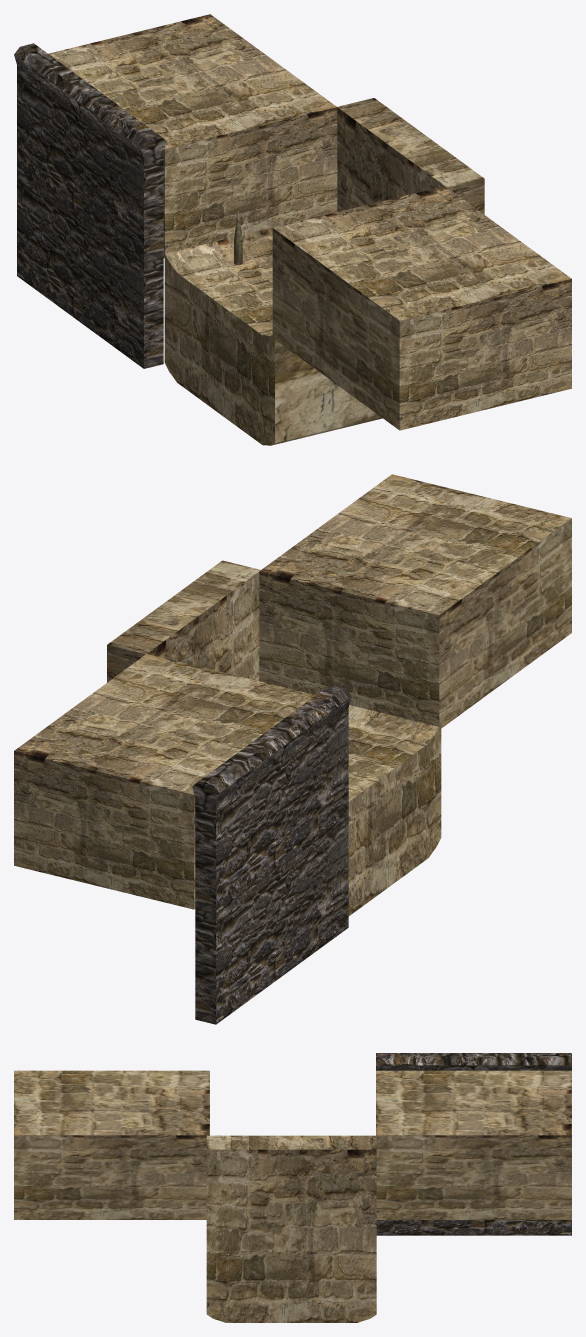
Rendered from Pit&Spike.fbx.
3 views of the same model, one above another, from view 1: azimuth 30°, elevation 25°; view 2: azimuth 150°, elevation 25°; view 3: azimuth 270°, elevation 25° (orthographic). The views are drawn at different scales.
Parts seen in each view (by area): view 1: pCube18, pCube1, polySurface1, pCube19, pCube21, polySurface2; view 2: pCube18, pCube1, pCube19, pCube21, polySurface1, polySurface2; view 3: pCube1, pCube18, polySurface2, polySurface1, pCube19, pCube21.
Boxes of the visible parts, x1,y1,x2,y2 form: pCube18: (272, 186, 571, 430); pCube1: (48, 14, 337, 258); polySurface1: (164, 212, 382, 445); pCube19: (14, 43, 166, 263); pCube21: (17, 171, 163, 368); polySurface2: (337, 98, 484, 214); pCube18: (259, 474, 571, 728); pCube1: (14, 654, 315, 909); pCube19: (192, 684, 351, 914); pCube21: (195, 818, 348, 1024); polySurface1: (348, 705, 441, 916); polySurface2: (107, 560, 260, 682); pCube1: (376, 1070, 571, 1219); pCube18: (14, 1070, 209, 1219); polySurface2: (206, 1135, 376, 1238); polySurface1: (206, 1230, 376, 1322); pCube19: (376, 1053, 571, 1070); pCube21: (376, 1220, 571, 1235).
Size of the model in its own units: 9.25 by 9.03 by 24.78.
3 materials, 3 textured.
